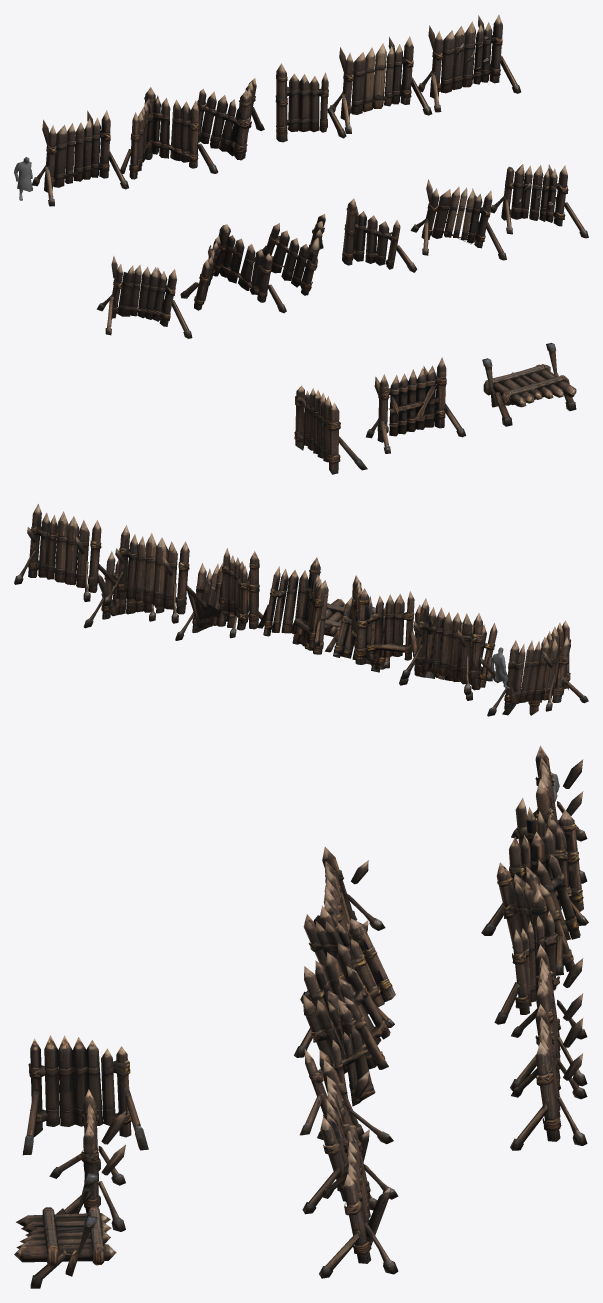
The model's file is palisade_sheet_pbr.glb.
3 renders of one model, top to bottom at view 1: azimuth 30°, elevation 25°; view 2: azimuth 150°, elevation 25°; view 3: azimuth 270°, elevation 25°, orthographic. The views are drawn at different scales.
Visible parts, largest first — view 1: tripo_8c422574_eb32_42d7_8270_bf7d4d205637; view 2: tripo_8c422574_eb32_42d7_8270_bf7d4d205637; view 3: tripo_8c422574_eb32_42d7_8270_bf7d4d205637.
Boxes of the visible parts, <box> form: tripo_8c422574_eb32_42d7_8270_bf7d4d205637: <box>14,14,588,474</box>; tripo_8c422574_eb32_42d7_8270_bf7d4d205637: <box>14,504,588,716</box>; tripo_8c422574_eb32_42d7_8270_bf7d4d205637: <box>14,745,588,1288</box>.
Size of the model in its own units: 0.9995 by 0.481 by 0.7388.
1 material, 1 textured.
